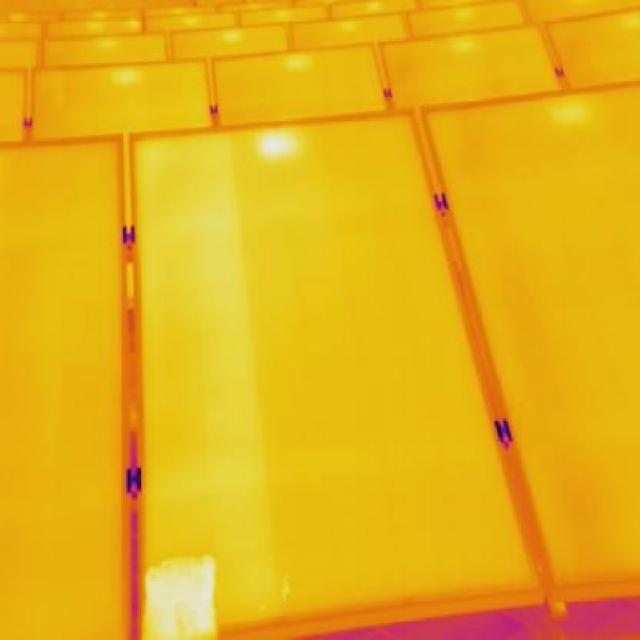hotspot: (137, 552, 225, 639), (257, 130, 308, 164)
